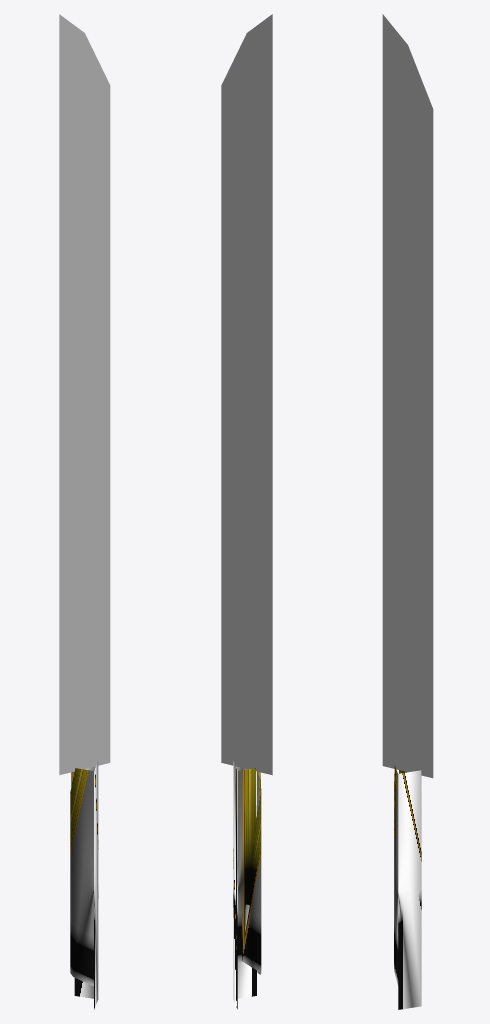
File: katana.fbx
The picture shows the model from 3 angles, left to right: view 1: azimuth 30°, elevation 25°; view 2: azimuth 150°, elevation 25°; view 3: azimuth 330°, elevation 25°; orthographic projection.
Parts seen in each view (by area): view 1: Plane; view 2: Plane; view 3: Plane.
Part boxes in pixels (box(x1,y1,x2,y2)): Plane: box(59, 14, 110, 1009); Plane: box(221, 14, 272, 1009); Plane: box(382, 14, 433, 1009).
Bounding box in the file's own units: 0.8846 × 6.79 × 0.6995.
